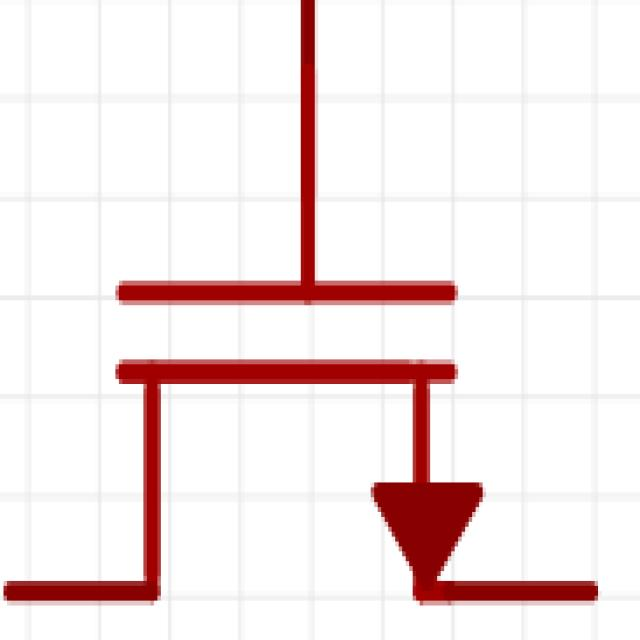nmos: (13, 9, 596, 631)
